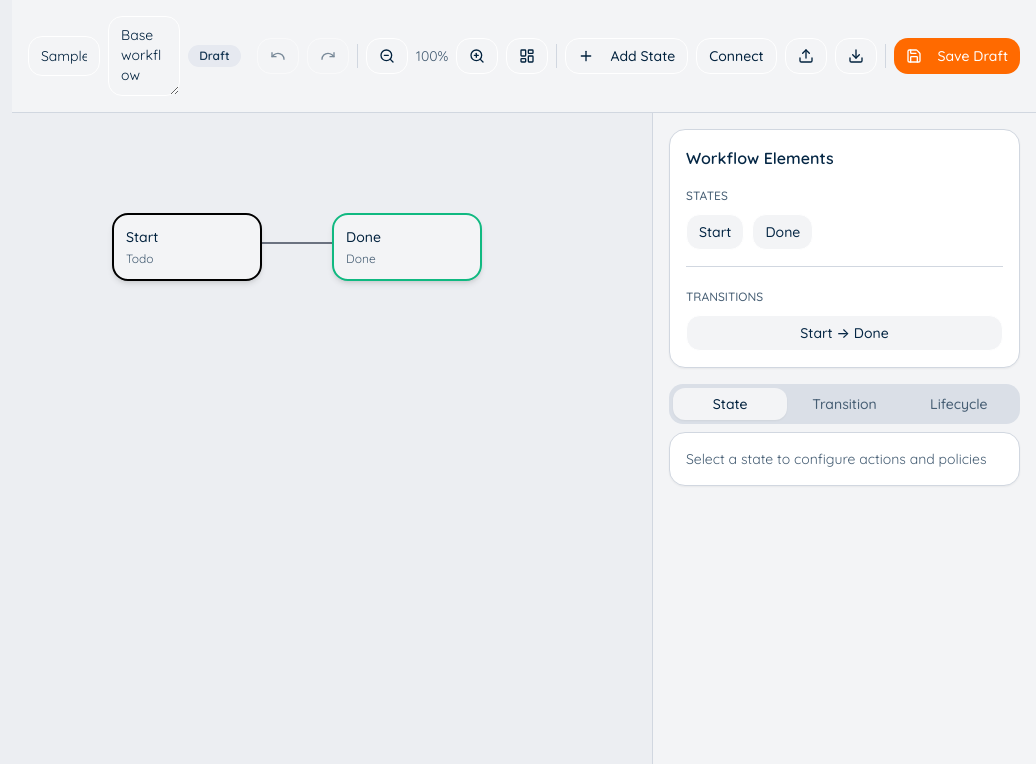
WorkflowBuilder › publishes workflows after simulation and updates board mappings
The width and height of the screenshot is (1036, 764).
Expected: the heading "Workflow Elements" is shown, [686, 148, 834, 168]
Expected: the button "Start" is shown, [686, 214, 744, 250]
Step 1. Click the tab "Lifecycle" → (959, 404), box [902, 388, 1016, 420]
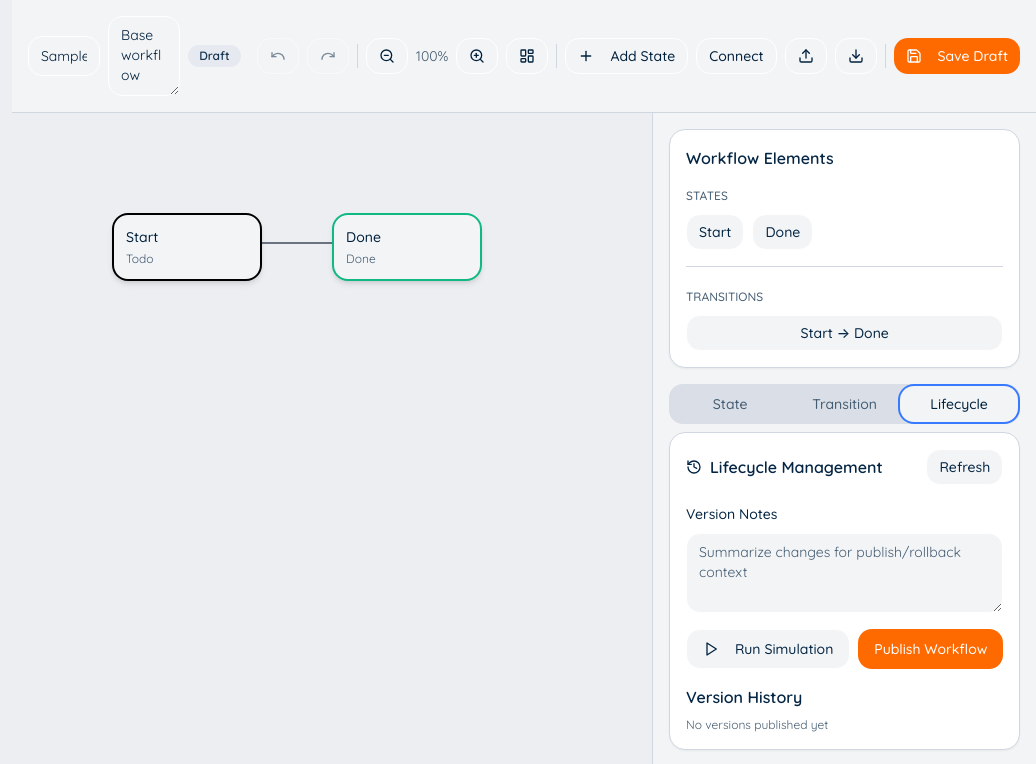
Result: the tab "Lifecycle" has attribute data-state="active" at [902, 388, 1016, 420]
Step 2. Click the button "Run Simulation" → (768, 649), box [686, 629, 850, 669]
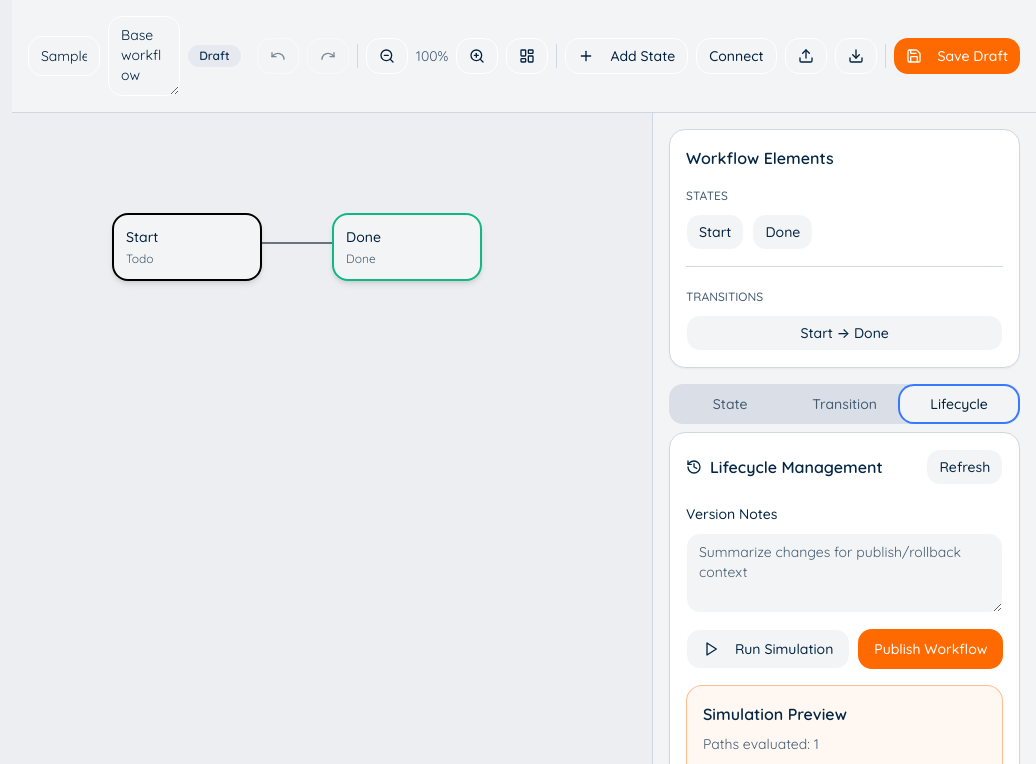
Step 3. Click the button "Publish Workflow" → (931, 649), box [858, 629, 1003, 669]
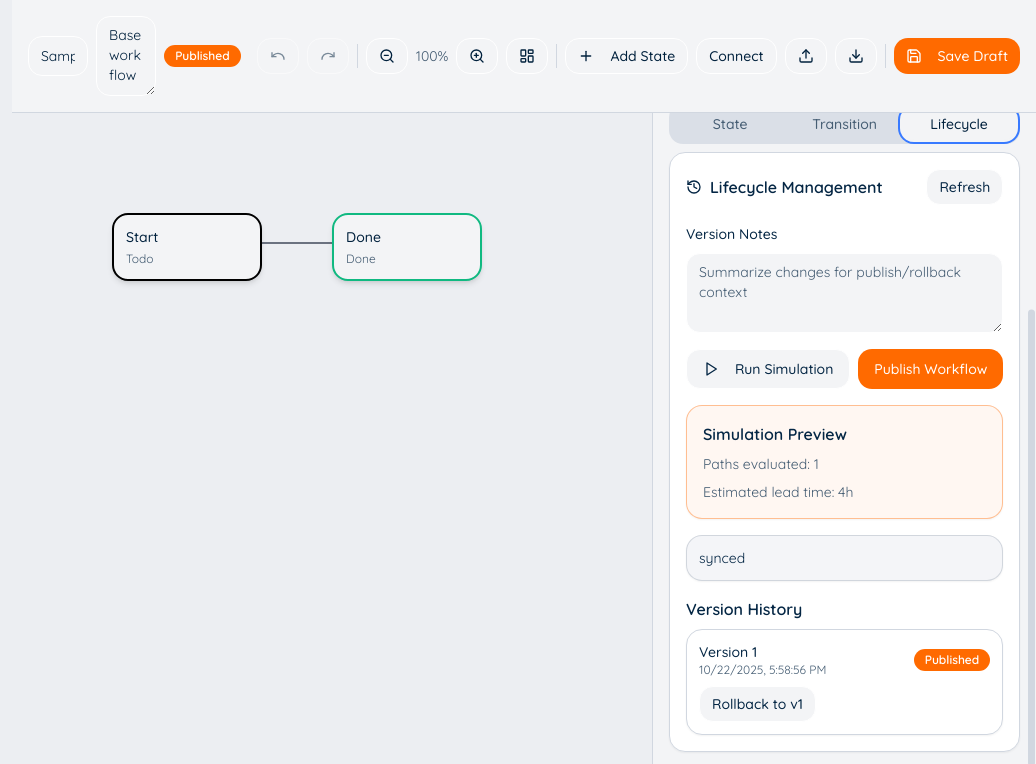
Result: the text with test id "workflow-status" reads "Published" at [175, 48, 230, 63]
Result: the text "synced" is shown at [686, 535, 1003, 581]
